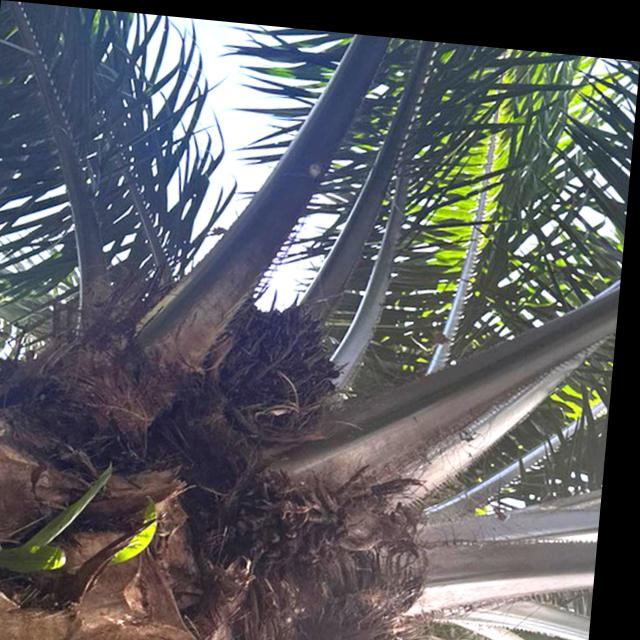ripe: (218, 293, 353, 429)
